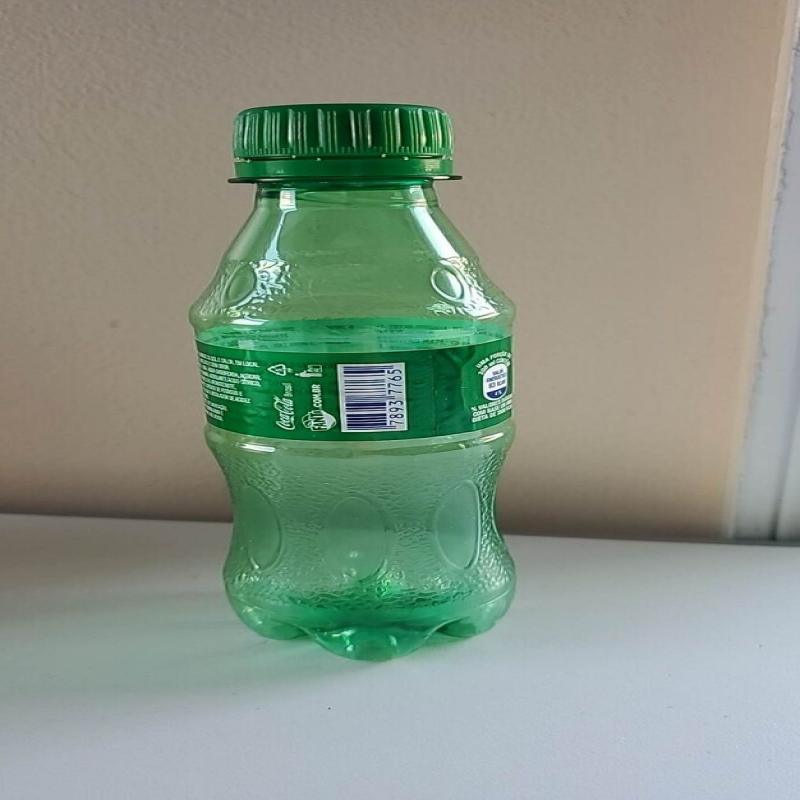botella: (197, 92, 526, 665)
